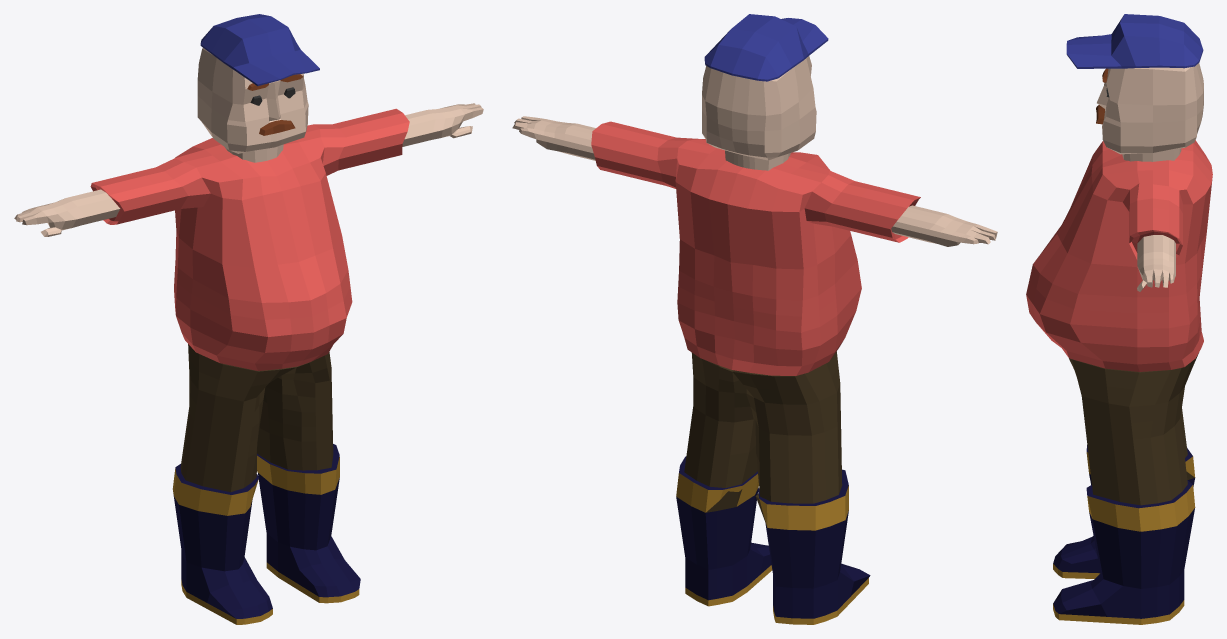
Rendered from Karl.fbx.
3 views of the same model, side by side, from view 1: azimuth 30°, elevation 25°; view 2: azimuth 150°, elevation 25°; view 3: azimuth 270°, elevation 25° (orthographic). The views are drawn at different scales.
Parts seen in each view (by area): view 1: default_character; view 2: default_character; view 3: default_character.
Part boxes in pixels (x1=…): default_character: x1=14, y1=14, x2=483, y2=624; default_character: x1=512, y1=14, x2=997, y2=624; default_character: x1=1026, y1=14, x2=1212, y2=624.
Bounding box in the file's own units: 426 × 485 × 145.
